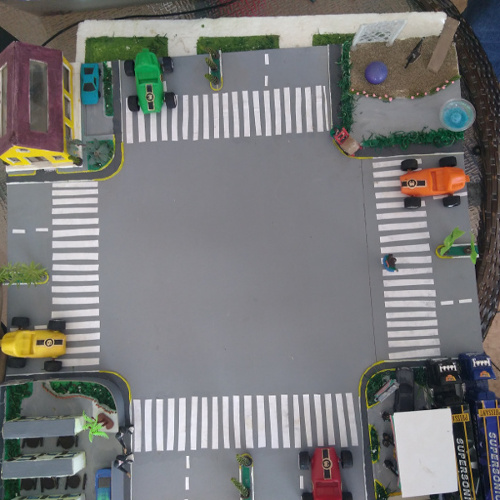amarillo: (2, 315, 66, 370)
naranja: (399, 156, 468, 209)
rojo: (299, 445, 354, 500)
verde: (124, 44, 177, 115)
